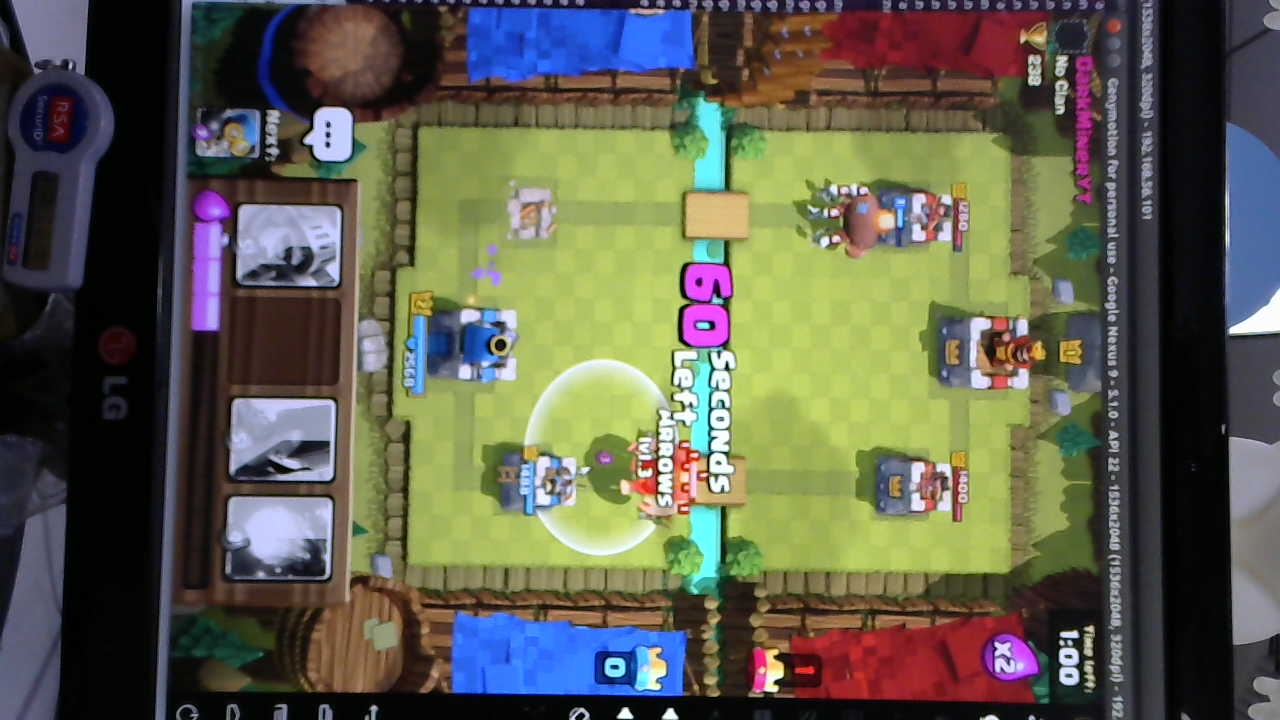arena: (501, 455, 573, 519)
darena: (502, 182, 563, 252)
earena: (872, 454, 952, 523), (878, 188, 957, 244)
eking: (938, 312, 1040, 393)
giant: (628, 430, 698, 520), (841, 182, 893, 264)
king: (430, 297, 515, 386)
